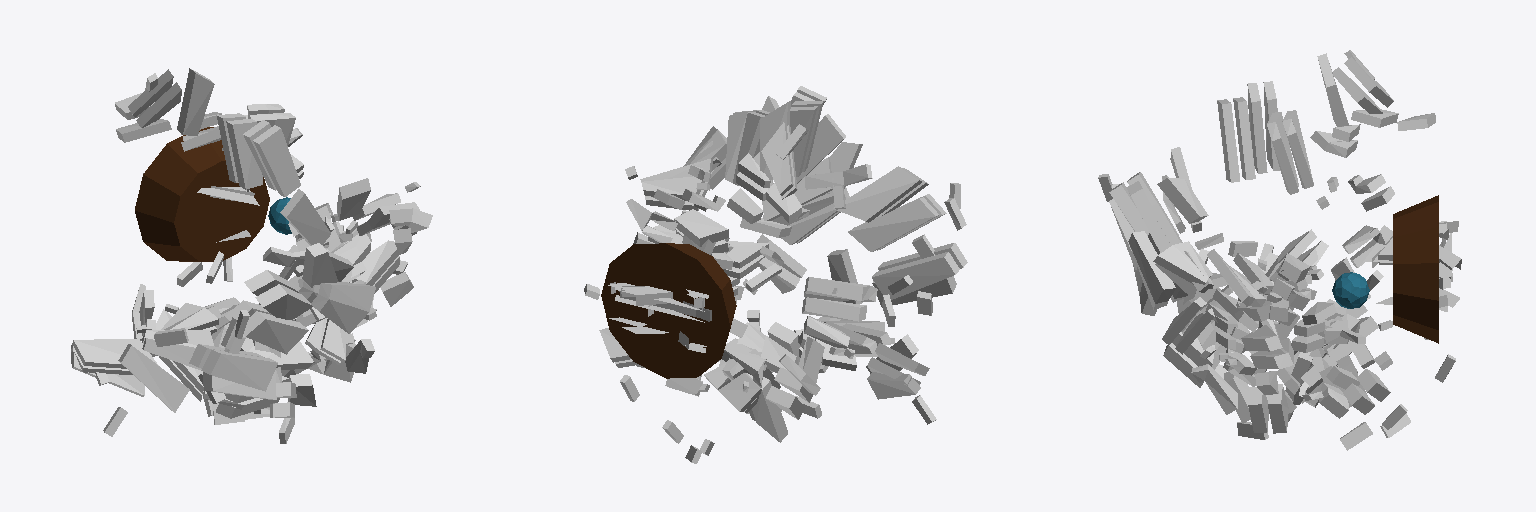
3 views of the same model, side by side, from view 1: azimuth 30°, elevation 25°; view 2: azimuth 150°, elevation 25°; view 3: azimuth 270°, elevation 25° (orthographic).
Visible parts, largest first — view 1: Cone_Cone_cover, Cone.001_Cone.001_cover, Cylinder_Cylinder_Material.001, Plane_Plane_Material.003, Icosphere_Icosphere_ball; view 2: Cone_Cone_cover, Cone.001_Cone.001_cover, Cylinder_Cylinder_Material.001, Plane_Plane_Material.003; view 3: Cone_Cone_cover, Cone.001_Cone.001_cover, Cylinder_Cylinder_Material.001, Plane_Plane_Material.003, Icosphere_Icosphere_ball.
Part boxes in pixels (x1,y1,x2,y2): Cone_Cone_cover: (154,178,432,443); Cone.001_Cone.001_cover: (71,68,420,436); Cylinder_Cylinder_Material.001: (135,127,269,261); Plane_Plane_Material.003: (143,173,259,242); Icosphere_Icosphere_ball: (268,197,291,234); Cone_Cone_cover: (584,96,967,463); Cone.001_Cone.001_cover: (620,86,966,443); Cylinder_Cylinder_Material.001: (601,243,736,378); Plane_Plane_Material.003: (608,282,711,352); Cone_Cone_cover: (1109,172,1428,450); Cone.001_Cone.001_cover: (1098,50,1455,429); Cylinder_Cylinder_Material.001: (1393,195,1438,343); Plane_Plane_Material.003: (1367,221,1461,311); Icosphere_Icosphere_ball: (1332,272,1369,308).
Size of the model in its own units: 2.88 by 2.98 by 2.71.
Materials: 4 (1 with a texture image).